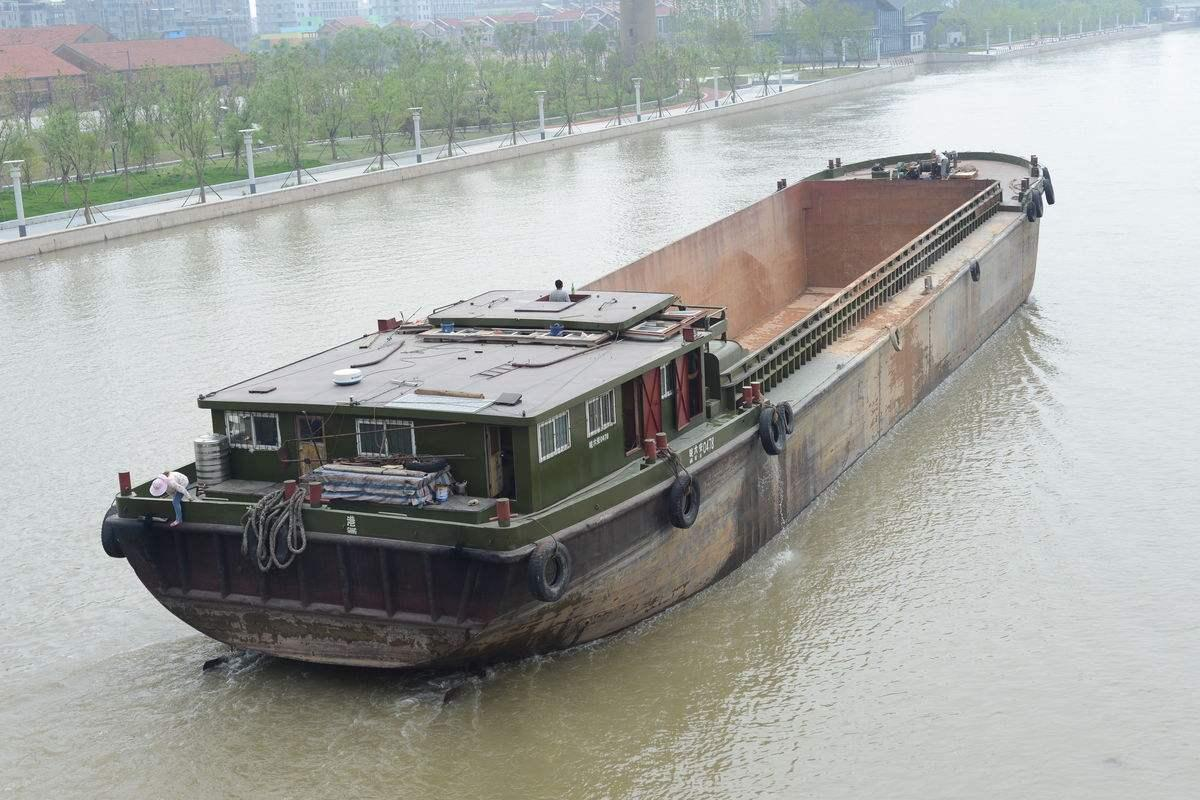Cargoship: (89, 134, 1071, 683)
